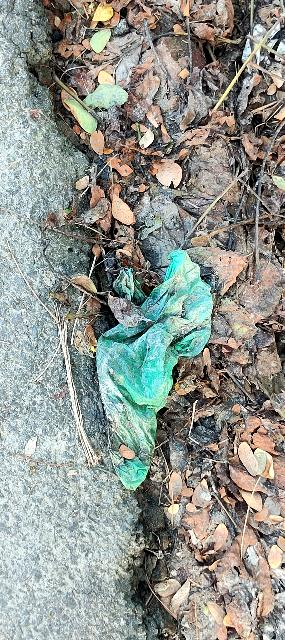polythene: (49, 244, 221, 501)
